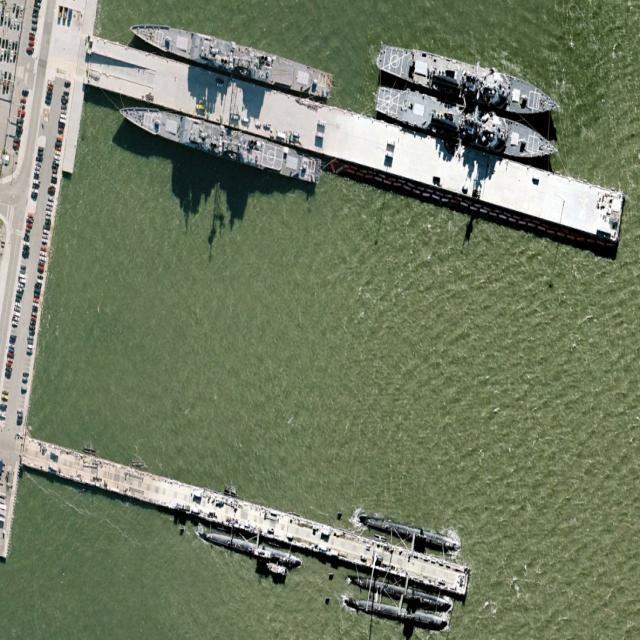Cruiser: (125, 12, 333, 104), (115, 96, 324, 187)
Destroyer: (374, 38, 563, 124), (374, 82, 561, 168)
Submarine: (196, 525, 302, 568), (342, 590, 448, 633), (345, 571, 453, 613), (357, 510, 460, 553)
